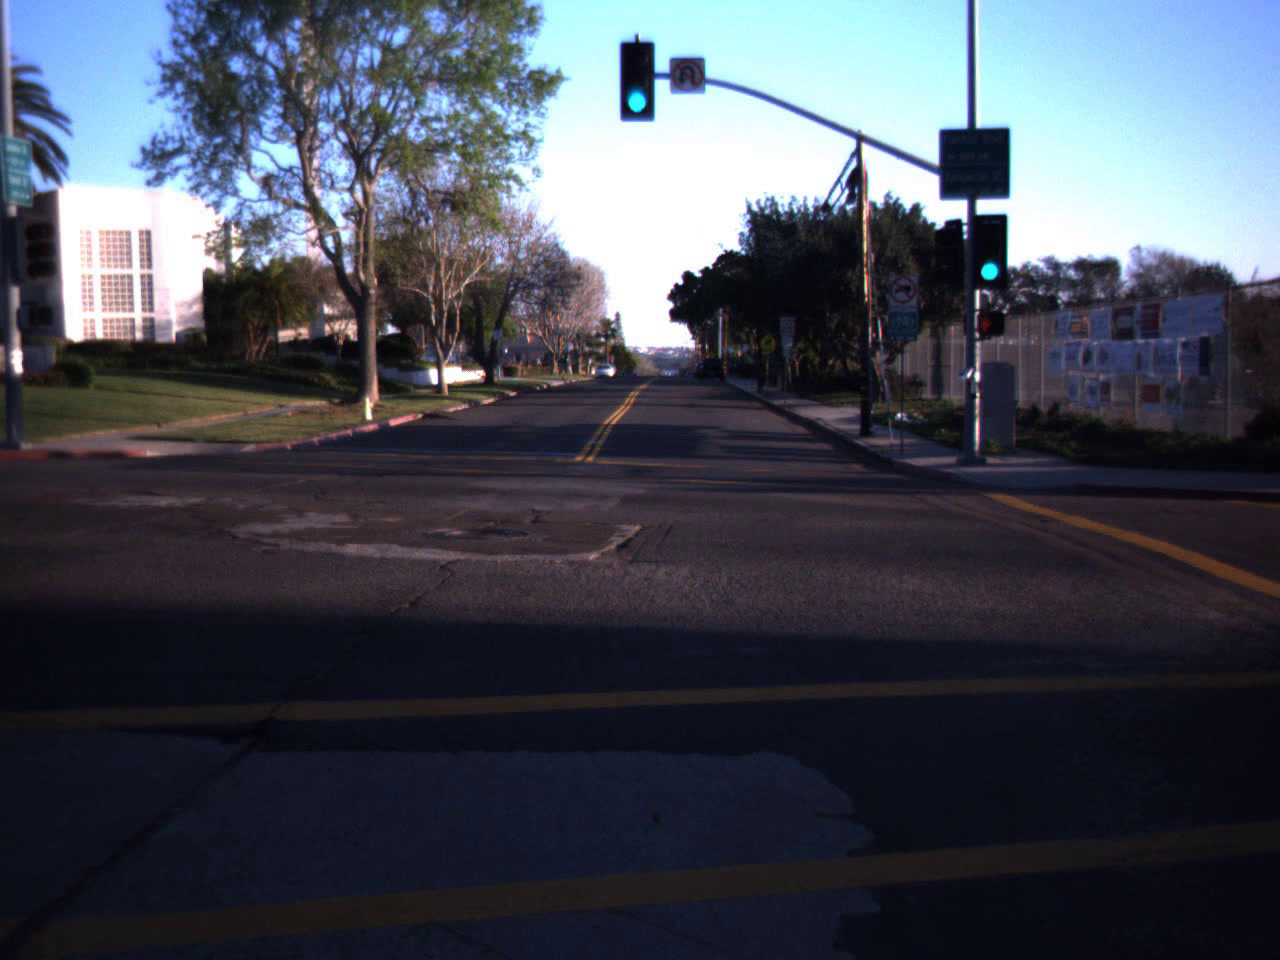go: (613, 26, 661, 121), (967, 211, 1012, 286)
